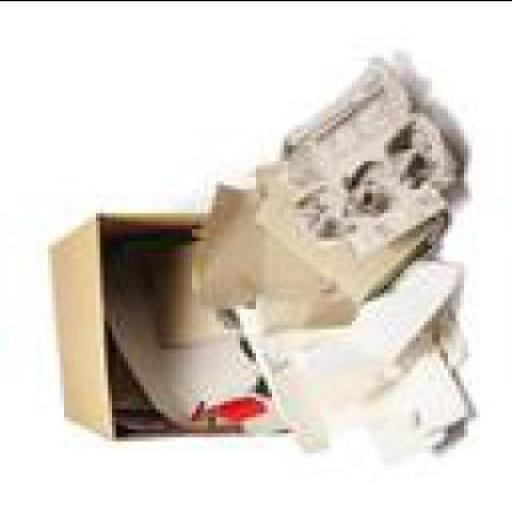cardboard: (44, 204, 288, 436), (276, 56, 464, 236), (248, 152, 444, 296), (192, 180, 352, 328), (136, 232, 232, 340)
metal: (104, 288, 268, 428), (236, 304, 376, 448), (361, 348, 464, 452), (356, 260, 452, 360), (392, 304, 472, 368), (232, 392, 276, 424)
